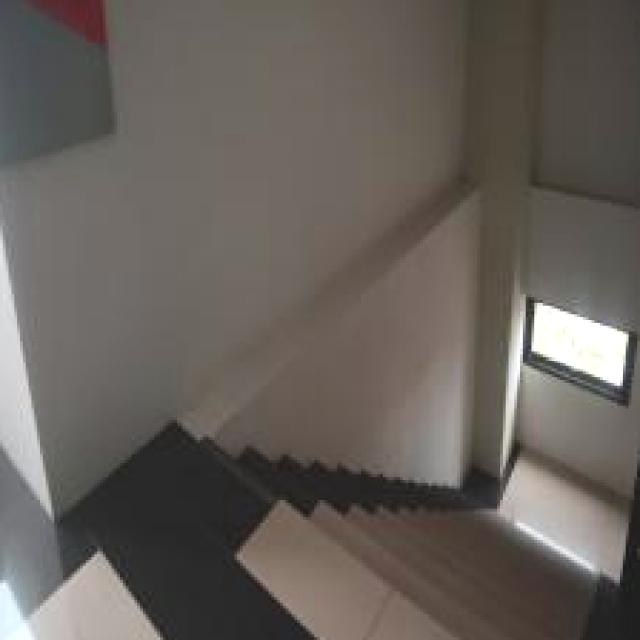downstair: (221, 472, 615, 640)
